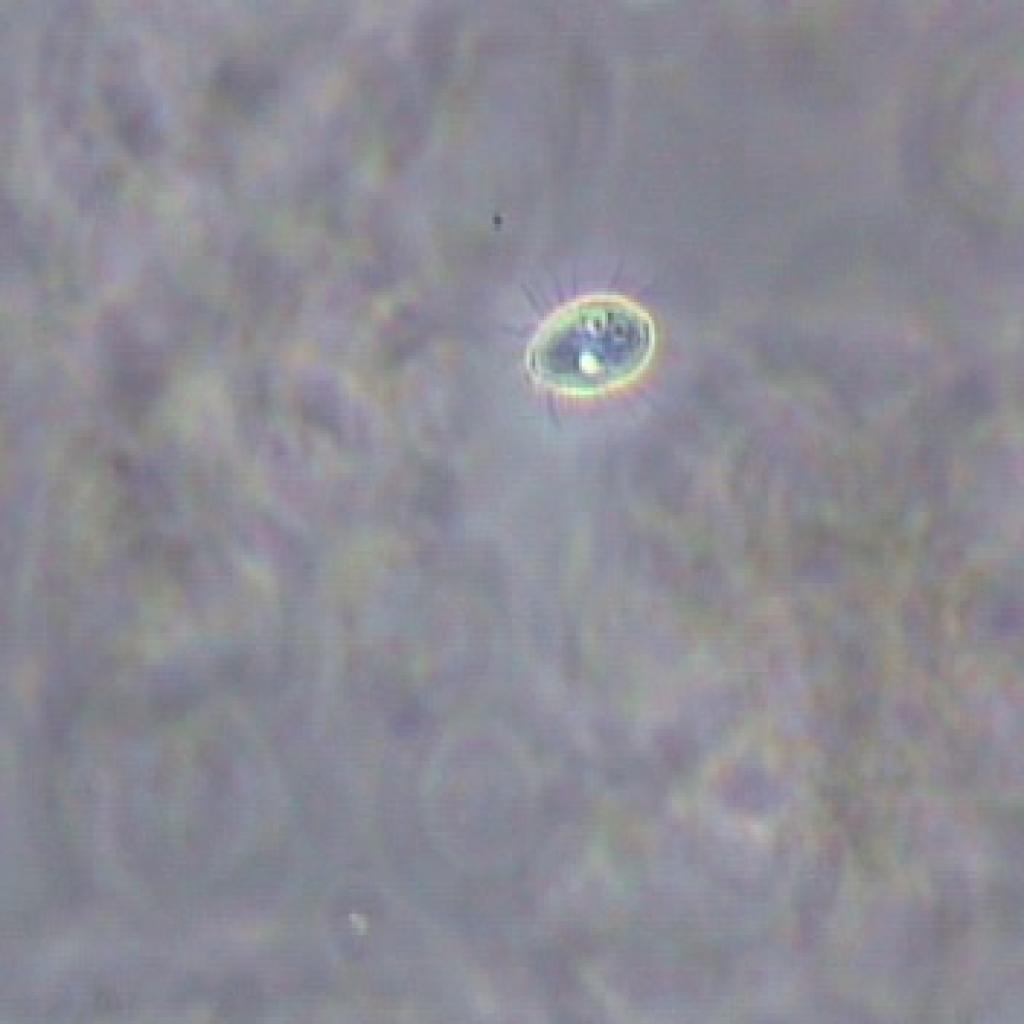Cyclidium: (489, 251, 701, 439)
